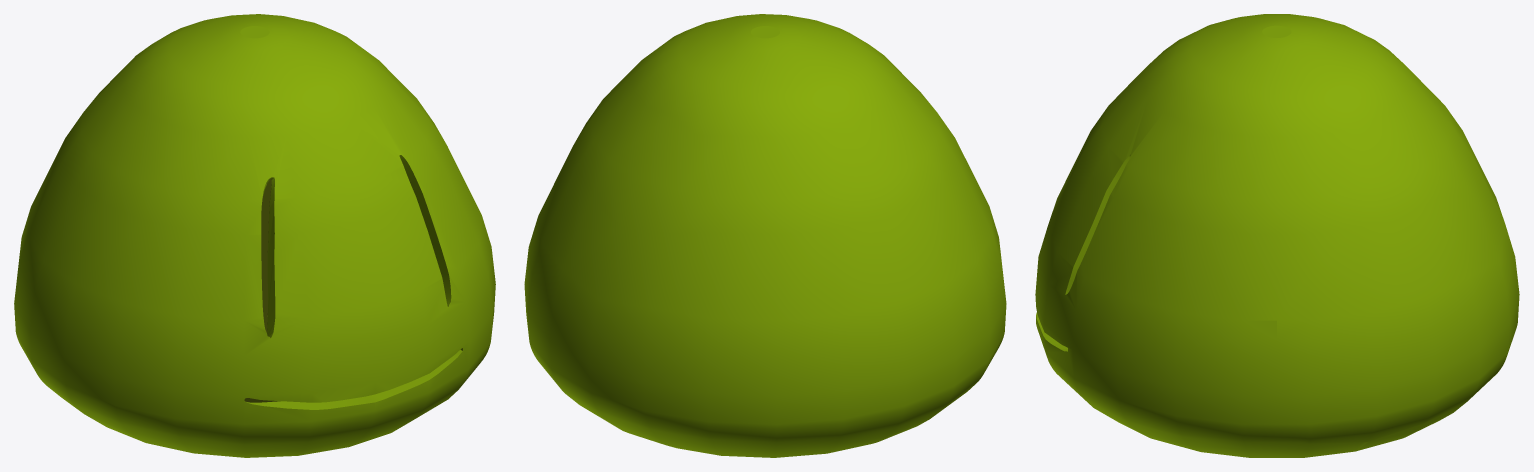
Rendered from Slime @1.FBX.
3 views of the same model, side by side, from view 1: azimuth 30°, elevation 25°; view 2: azimuth 150°, elevation 25°; view 3: azimuth 270°, elevation 25° (orthographic).
Visible parts, largest first — view 1: Основна копія, Line007; view 2: Основна копія; view 3: Основна копія.
Boxes of the visible parts, bbox=[...] form: Основна копія: bbox=[14, 14, 495, 457]; Line007: bbox=[261, 179, 271, 332]; Основна копія: bbox=[524, 14, 1006, 457]; Основна копія: bbox=[1035, 14, 1519, 457].
Size of the model in its own units: 98.46 by 84.41 by 99.21.
